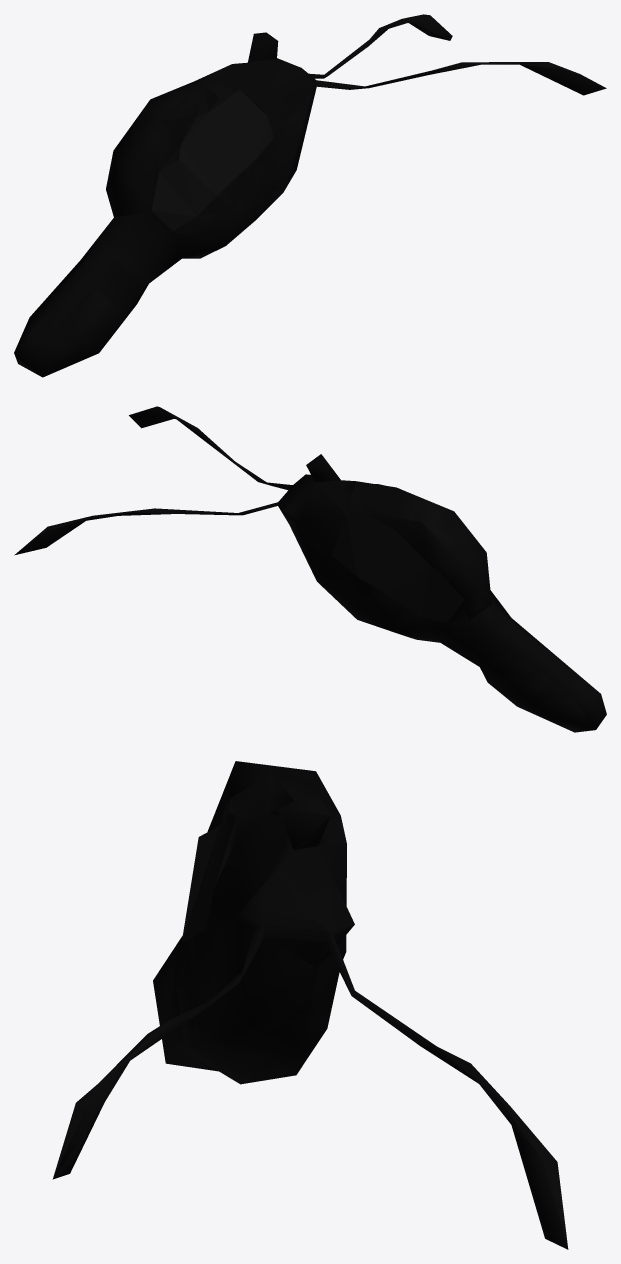
The model's file is cuerpo-mariposa.obj.
The picture shows the model from 3 angles, top to bottom: view 1: azimuth 30°, elevation 25°; view 2: azimuth 150°, elevation 25°; view 3: azimuth 270°, elevation 25°; orthographic projection. The views are drawn at different scales.
Parts seen in each view (by area): view 1: model.047; view 2: model.047; view 3: model.047.
Boxes of the visible parts, box(x1,y1,x2,y2) form: model.047: box(14, 14, 606, 377); model.047: box(14, 406, 606, 732); model.047: box(52, 761, 568, 1249).
Size of the model in its own units: 0.0233 by 0.0104 by 0.0101.
1 material, 1 textured.
